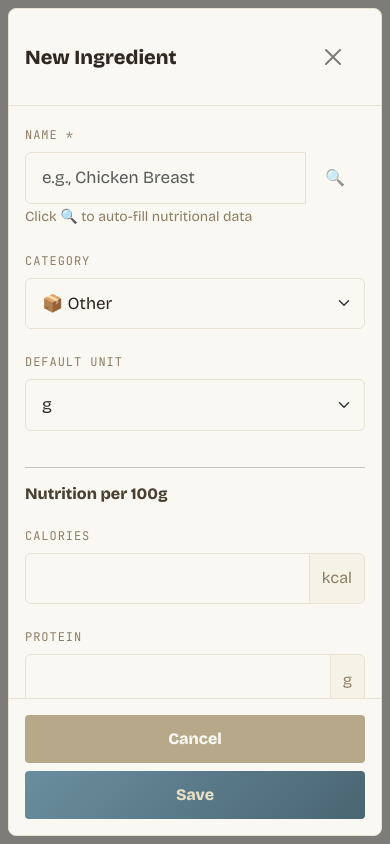
Test: IngredientModal › Loading State › disables buttons during submission
Type "New Ingredient" into the field with placeholder "e.g., Chicken Breast" at (166,178), box 25,152 -> 306,204
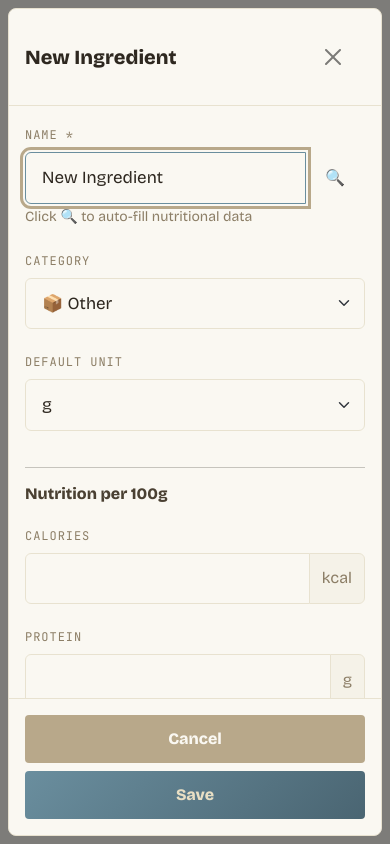
Click the button "Save" at (195,795), box 25,771 -> 365,819
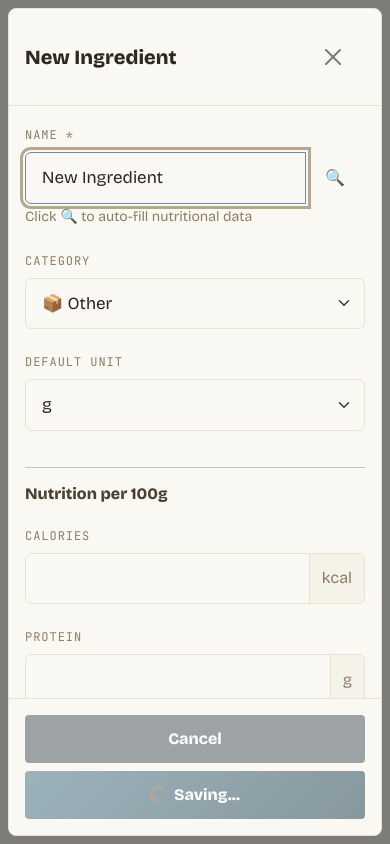
Expected: the button "Cancel" is disabled, 25,715 -> 365,763
